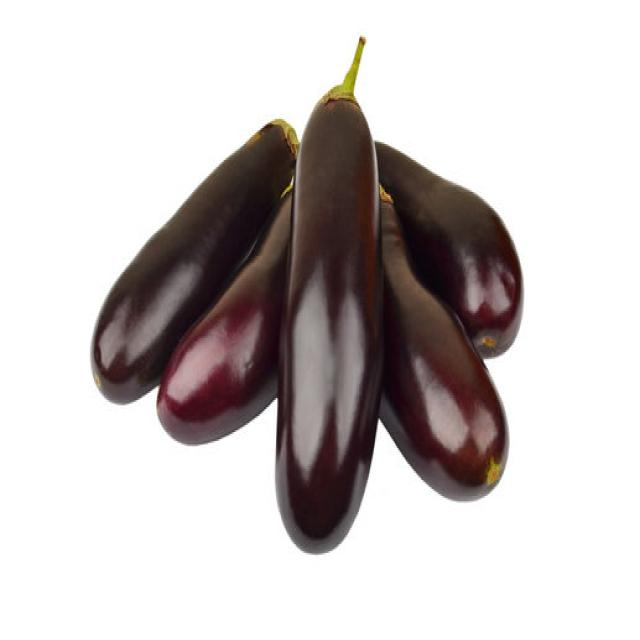Eggplant: (89, 116, 298, 406), (274, 34, 385, 553), (375, 183, 509, 501), (155, 182, 296, 444), (372, 137, 524, 359)
